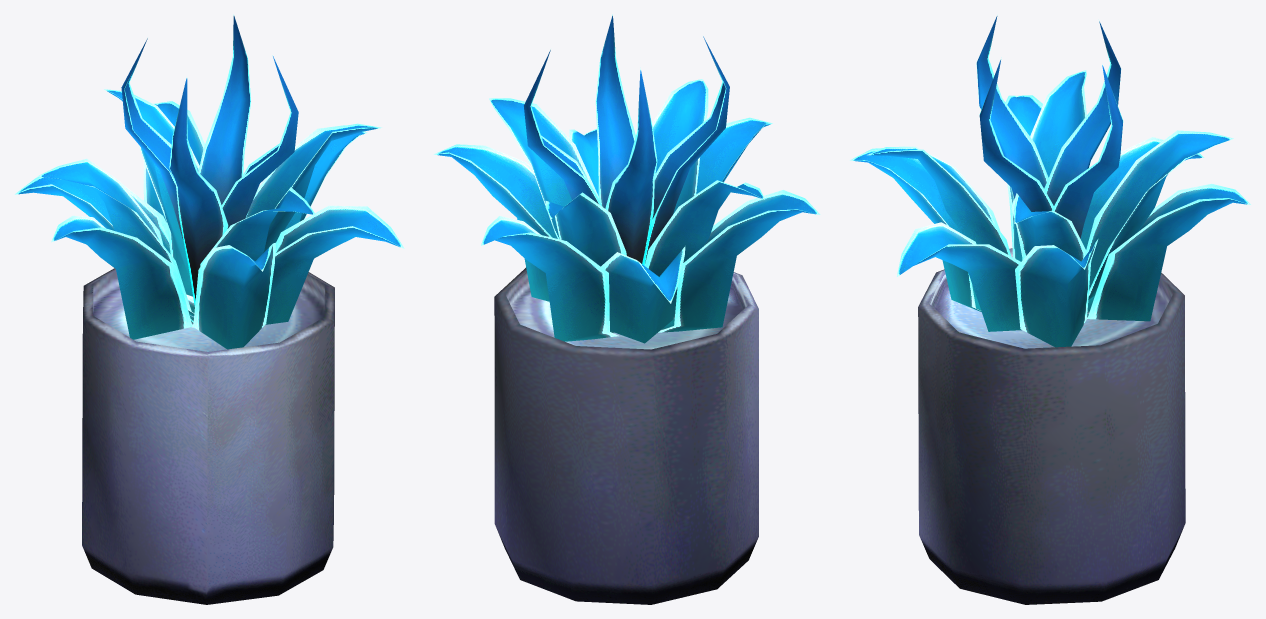
File: obj_plant01.gltf
3 views of the same model, side by side, from view 1: azimuth 30°, elevation 25°; view 2: azimuth 150°, elevation 25°; view 3: azimuth 270°, elevation 25° (orthographic).
Parts seen in each view (by area): view 1: obj_plant01; view 2: obj_plant01; view 3: obj_plant01.
Boxes of the visible parts, x1=… form: obj_plant01: x1=14, y1=14, x2=404, y2=604; obj_plant01: x1=433, y1=14, x2=820, y2=604; obj_plant01: x1=849, y1=15, x2=1250, y2=604.
Size of what is drawn, in the model's own units: 0.9922 by 1.38 by 0.9717.
1 material, 1 textured.
